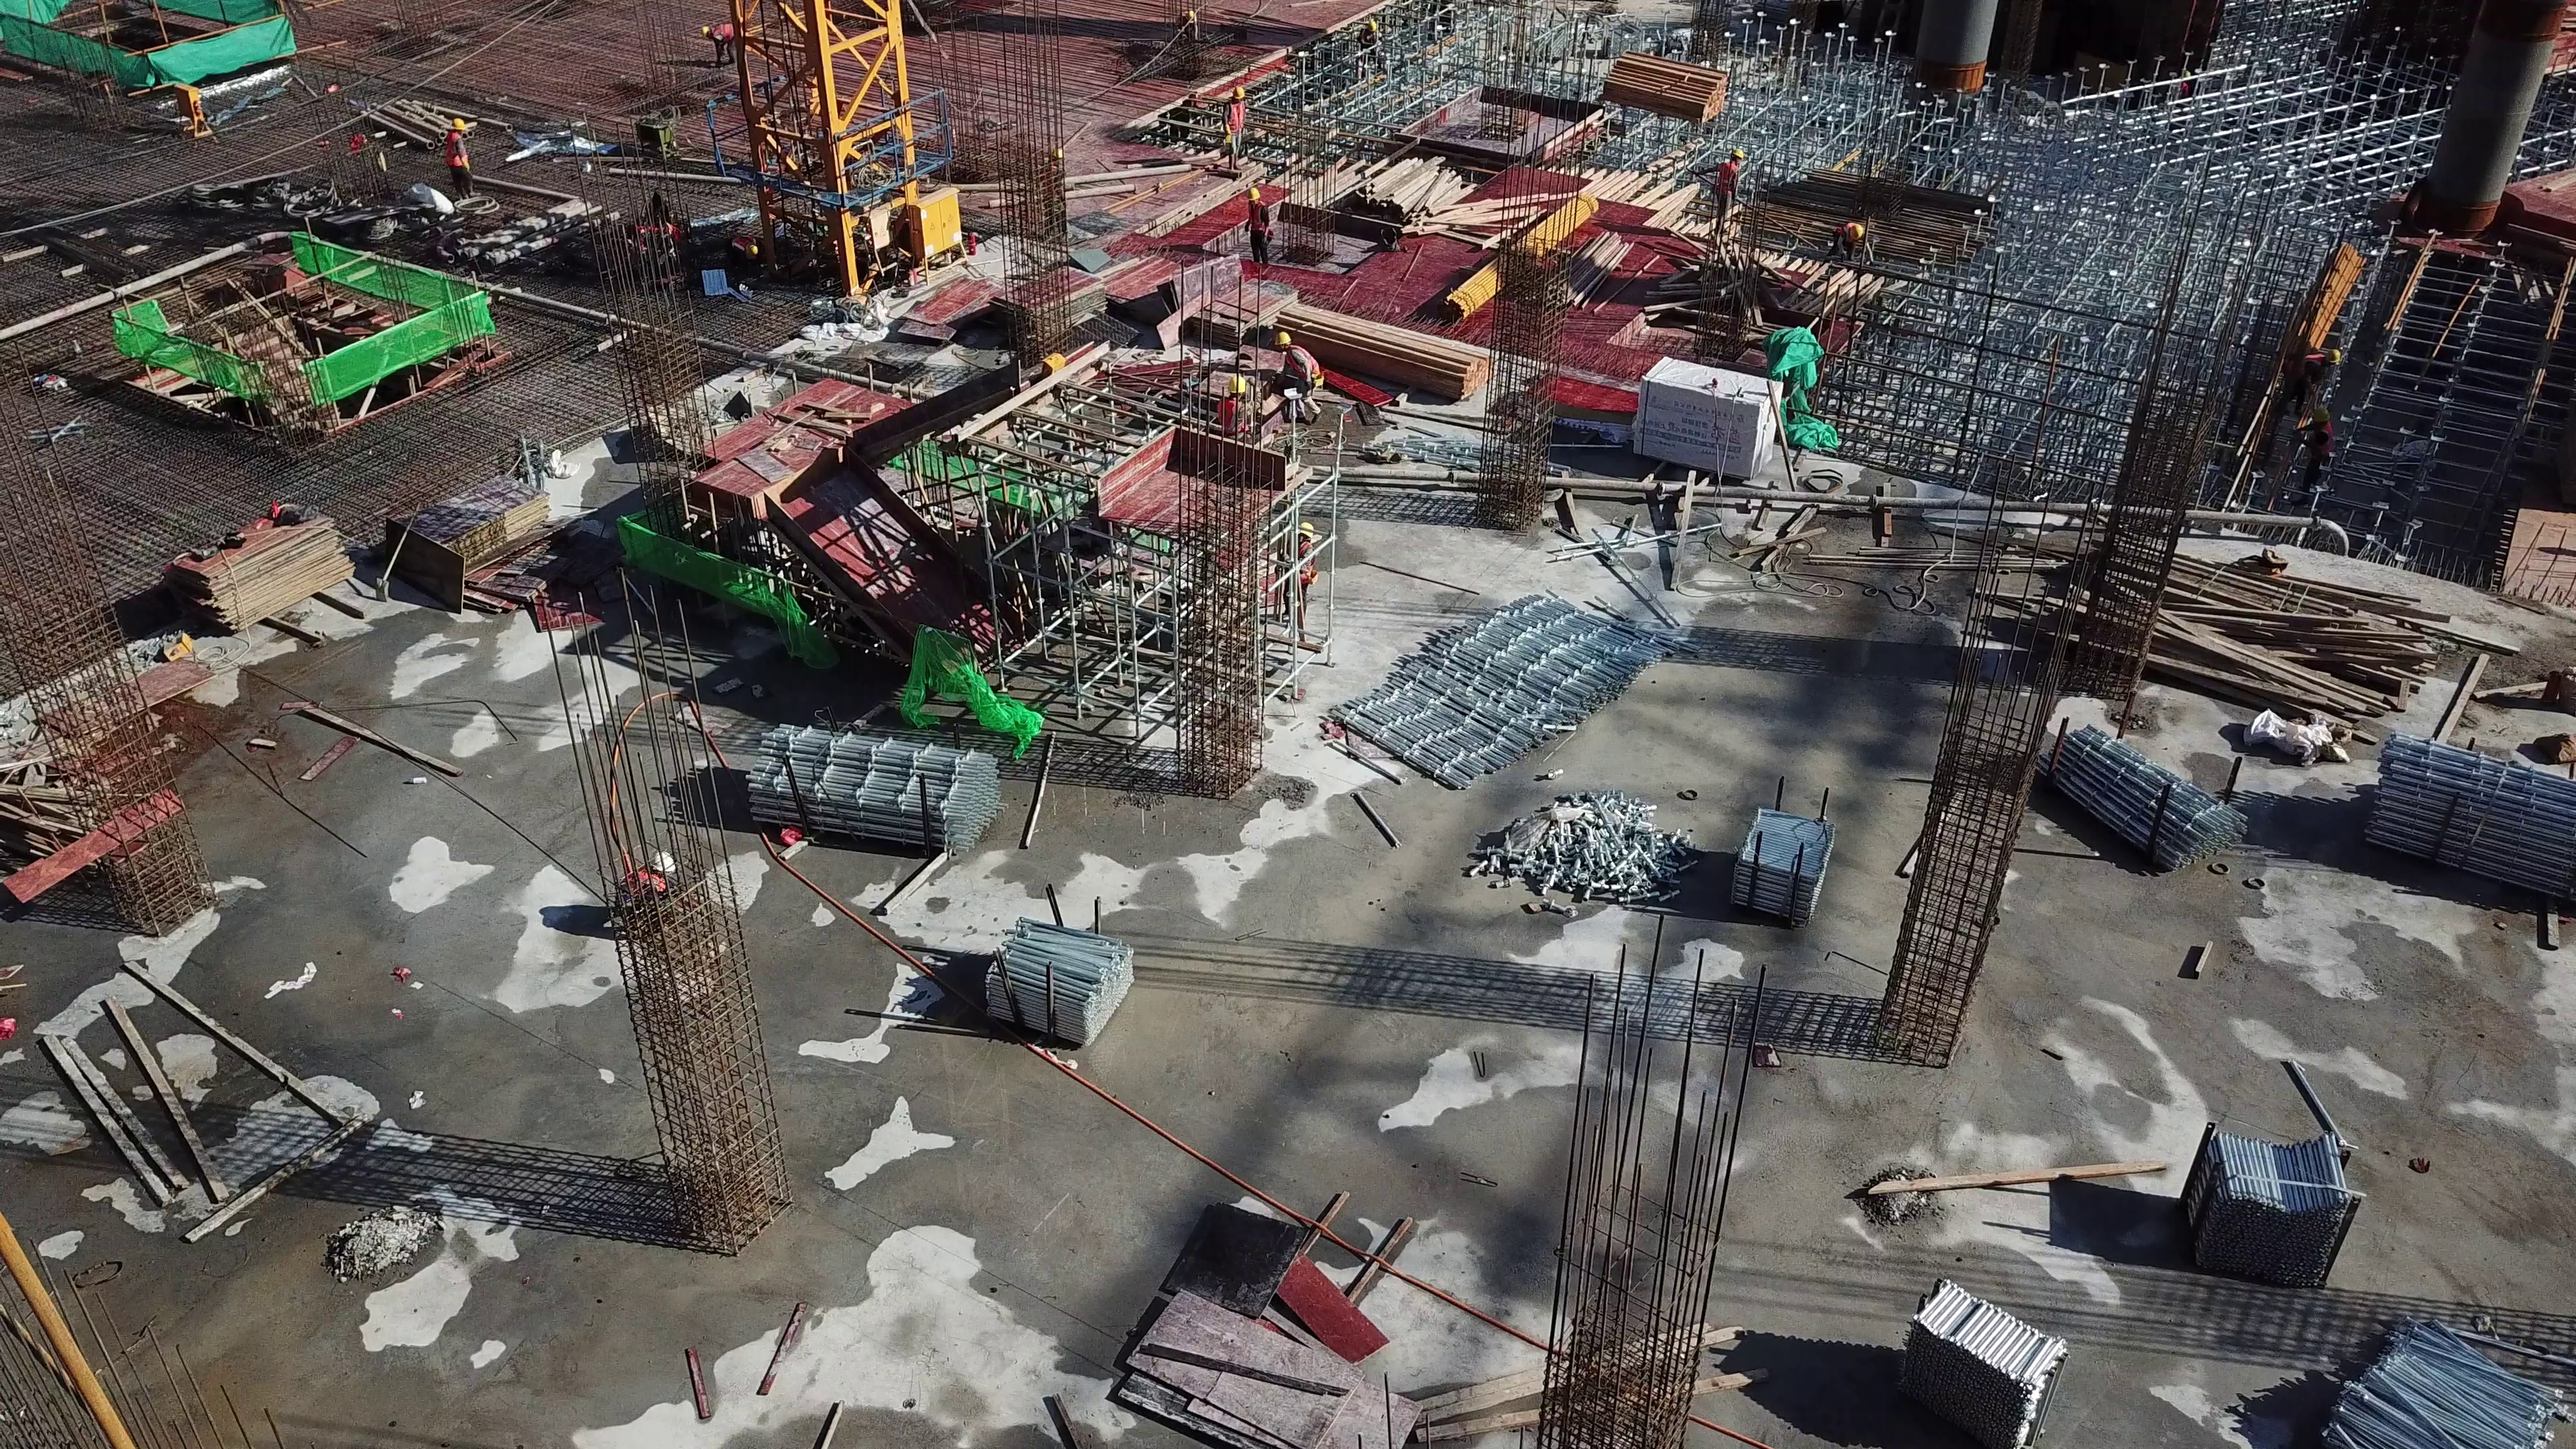board: (157, 491, 350, 637), (394, 479, 551, 608)
person: (1703, 141, 1744, 243), (1269, 331, 1333, 394), (437, 112, 481, 193), (1216, 368, 1254, 453), (1222, 74, 1248, 167), (1834, 214, 1872, 284)
scaffold: (1318, 584, 1671, 788), (1493, 783, 1852, 946), (2365, 733, 2576, 927), (1866, 1275, 2082, 1449), (2318, 1320, 2560, 1449), (2182, 1112, 2359, 1284), (2047, 718, 2234, 870), (761, 730, 985, 855), (983, 917, 1126, 1065)
wood: (1995, 549, 2447, 733), (1286, 150, 1543, 266), (1275, 296, 1487, 400)
